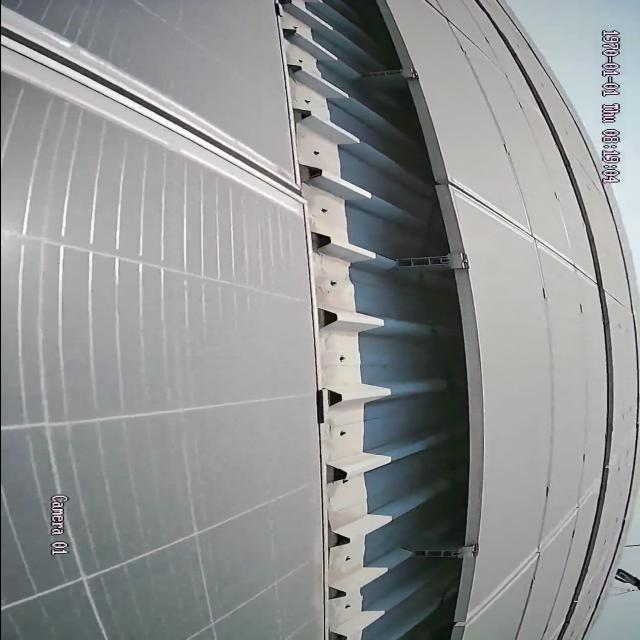interior panel: (6, 9, 285, 208), (477, 487, 594, 611), (464, 186, 593, 291)
outher panel: (273, 0, 482, 638)
